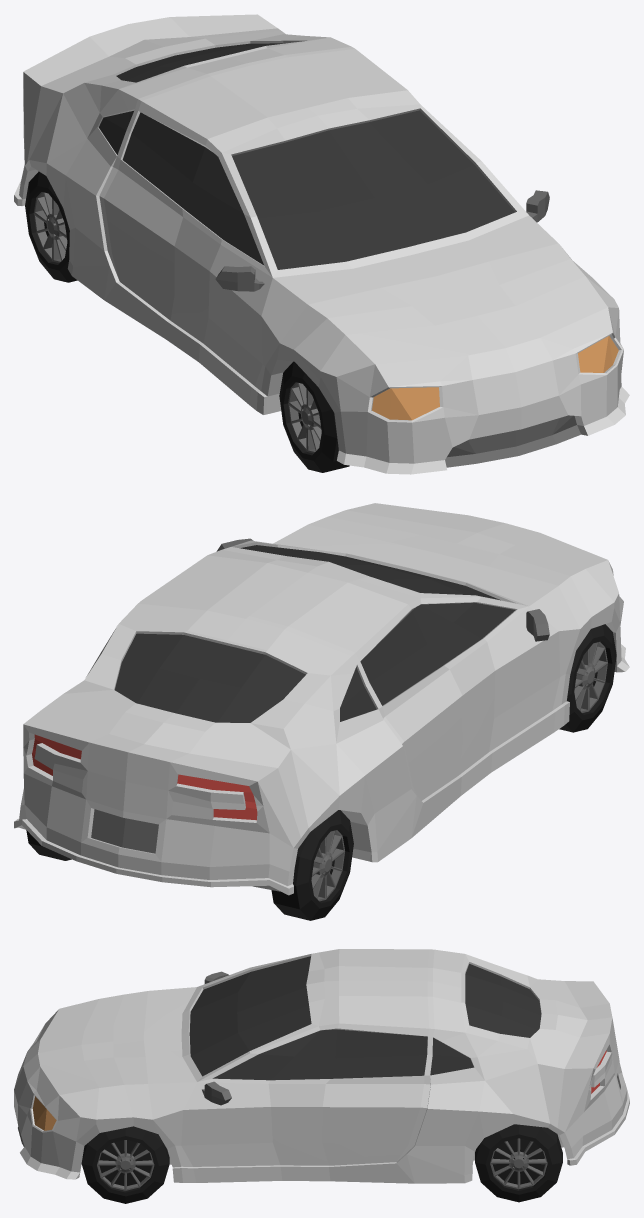
Rendered from sport.glb.
3 views of the same model, one above another, from view 1: azimuth 30°, elevation 25°; view 2: azimuth 150°, elevation 25°; view 3: azimuth 270°, elevation 25° (orthographic). The views are drawn at different scales.
Parts seen in each view (by area): view 1: SportsCar2, SportsCar2_FrontRightWheel, SportsCar2_BackWheels; view 2: SportsCar2, SportsCar2_BackWheels, SportsCar2_FrontRightWheel; view 3: SportsCar2, SportsCar2_BackWheels, SportsCar2_FrontLeftWheel.
Boxes of the visible parts, box(x1,y1,x2,y2) form: SportsCar2: box(14, 14, 629, 474); SportsCar2_FrontRightWheel: box(279, 361, 349, 472); SportsCar2_BackWheels: box(25, 171, 77, 282); SportsCar2: box(14, 503, 629, 895); SportsCar2_BackWheels: box(26, 810, 353, 920); SportsCar2_FrontRightWheel: box(559, 624, 616, 732); SportsCar2: box(14, 949, 629, 1183); SportsCar2_BackWheels: box(475, 1124, 562, 1202); SportsCar2_FrontLeftWheel: box(81, 1126, 169, 1203).
Bounding box in the file's own units: 1.87 × 1.2 × 3.93.
